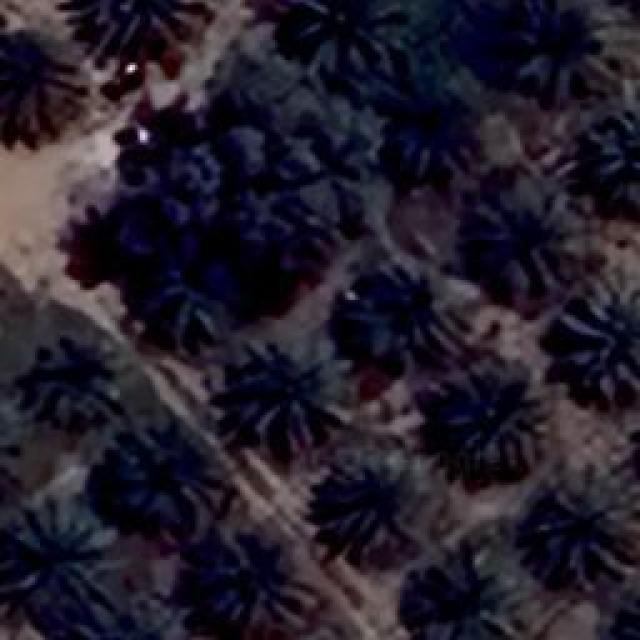PalmTree: (232, 332, 358, 450), (322, 440, 450, 550), (8, 505, 120, 613), (448, 352, 550, 470), (492, 0, 618, 95), (0, 28, 88, 164), (395, 547, 530, 635), (114, 418, 216, 532), (476, 186, 572, 306), (344, 268, 446, 372), (22, 330, 128, 428), (388, 82, 496, 178), (540, 472, 635, 580), (558, 267, 638, 395), (292, 0, 418, 80), (210, 535, 315, 630), (57, 0, 210, 49), (154, 254, 230, 340), (580, 124, 640, 216), (68, 595, 182, 640), (0, 397, 27, 502), (595, 582, 640, 639)
